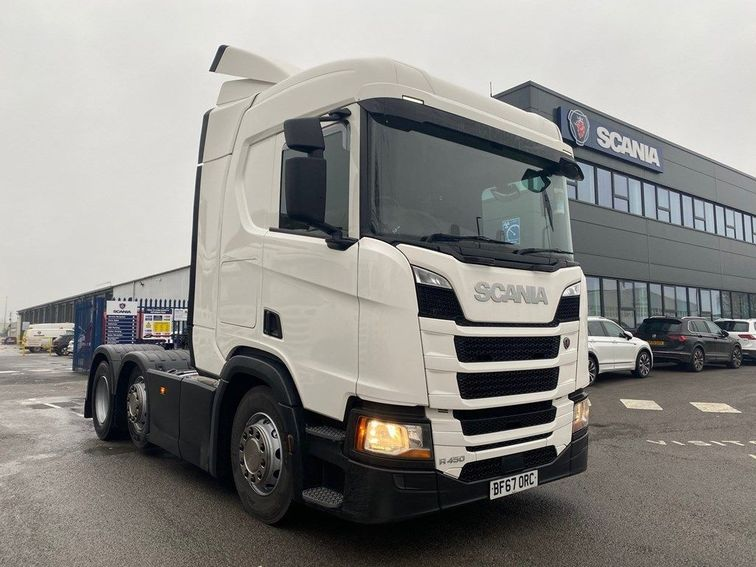Car: (637, 313, 742, 371), (582, 316, 654, 382)
Semi: (82, 42, 588, 524)
